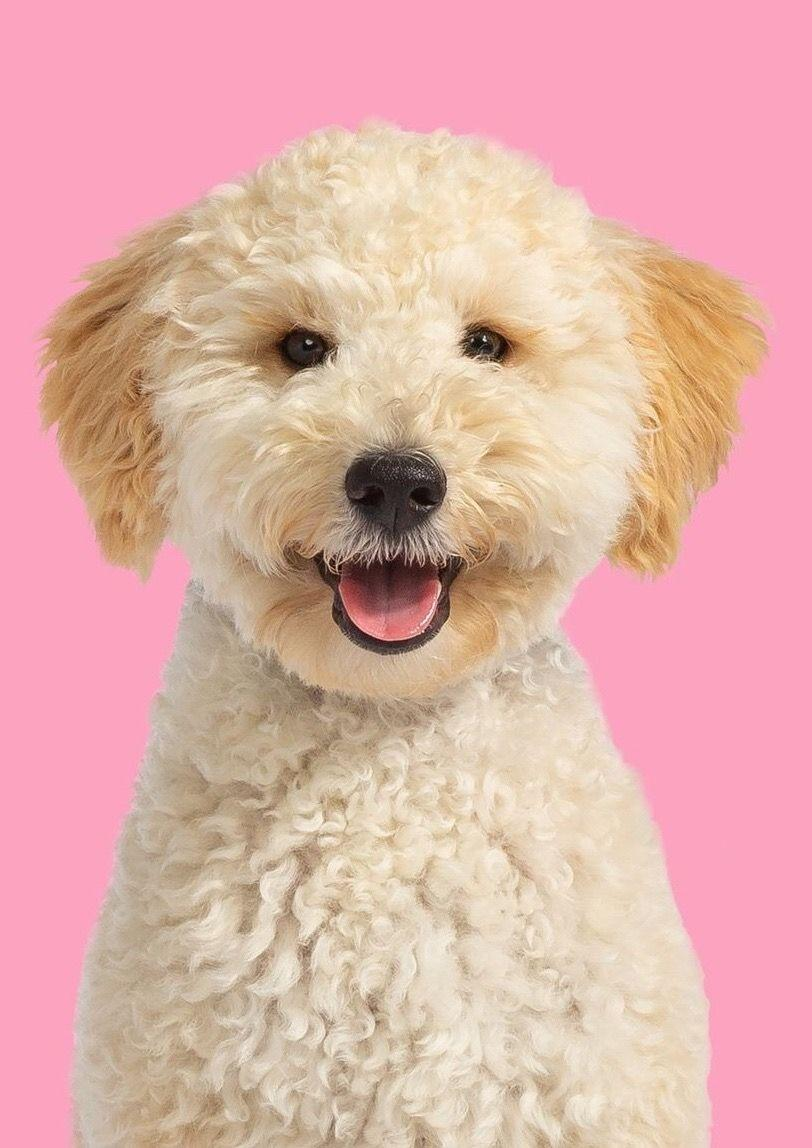puppy-dog: (28, 119, 780, 1148)
